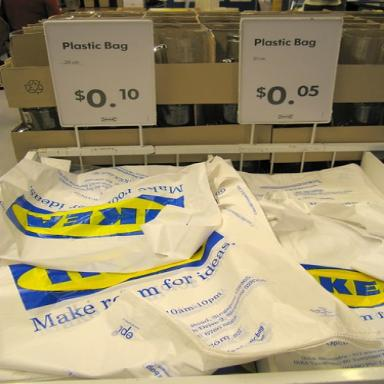plasticbag: (3, 156, 374, 369)
